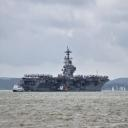Portanaves: (19, 47, 111, 92)
